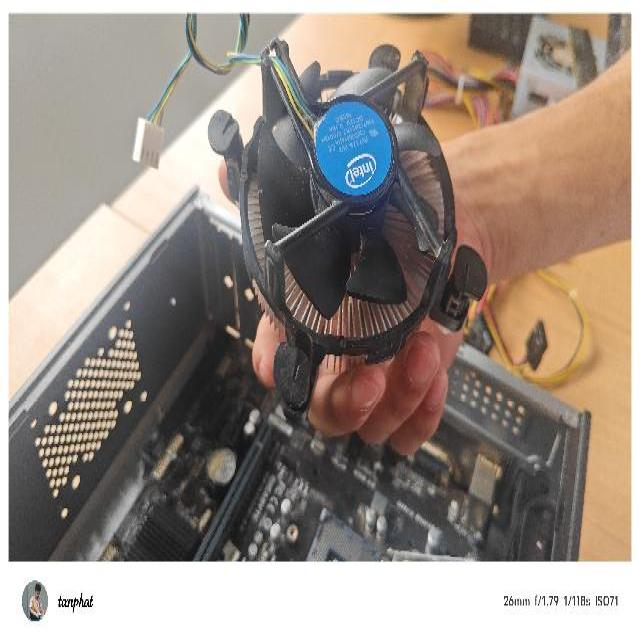CPU_Fan: (208, 14, 489, 425)
